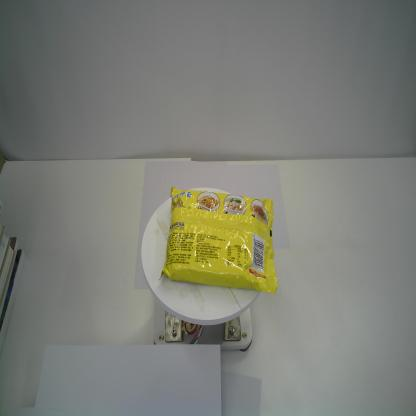Instant Noodles: (158, 185, 278, 294)
